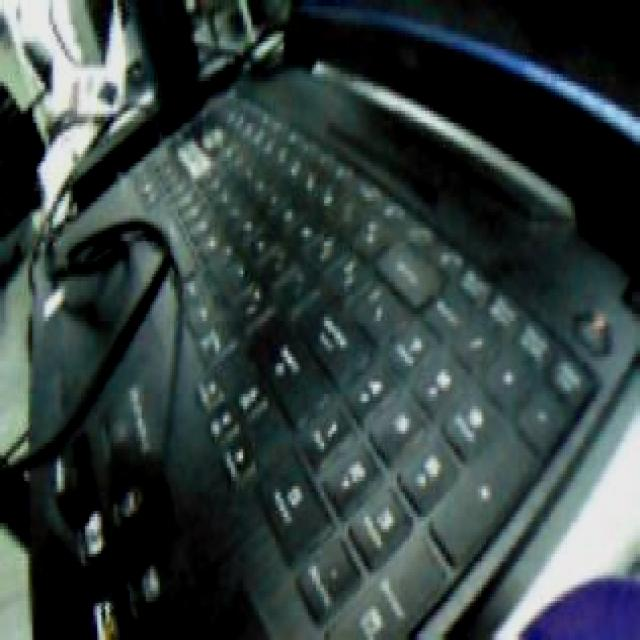BallPurple: (516, 577, 640, 640)
